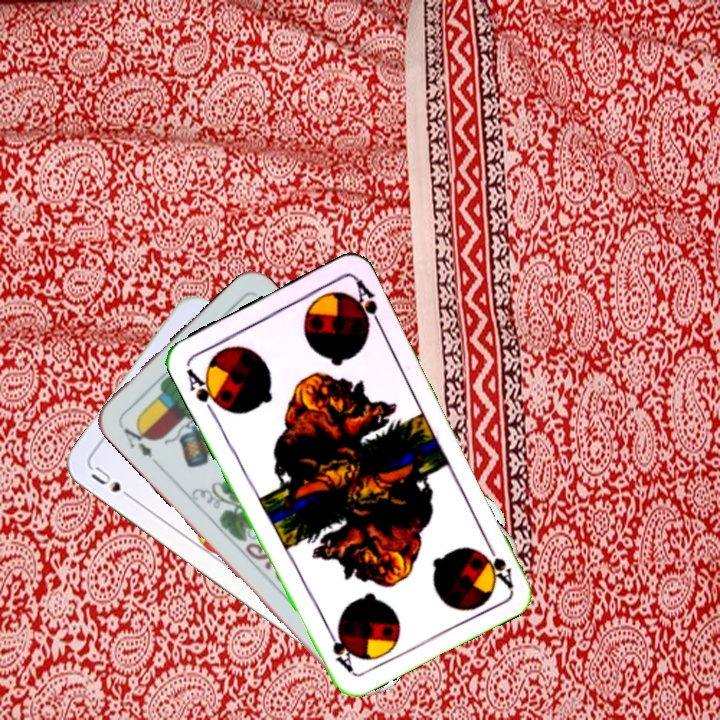EA: (115, 419, 161, 467)
SA: (182, 364, 226, 417), (481, 535, 516, 591)
SU: (87, 462, 139, 504)
